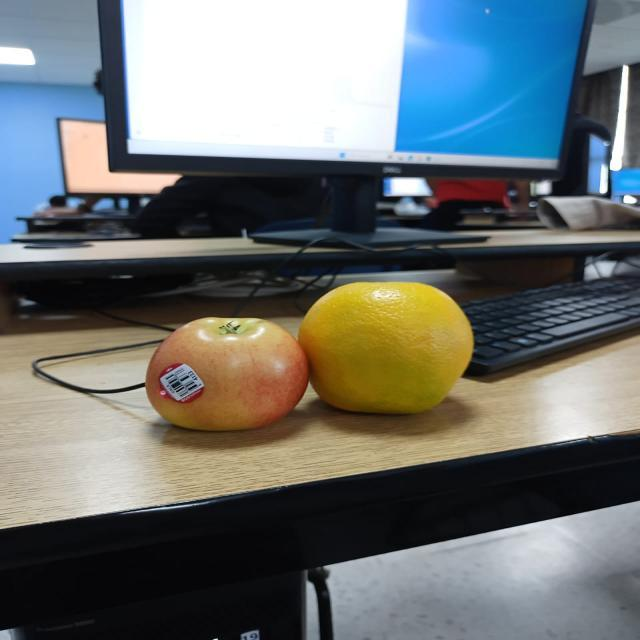Apel Gala: (144, 313, 311, 433)
Jeruk: (296, 277, 479, 416)
